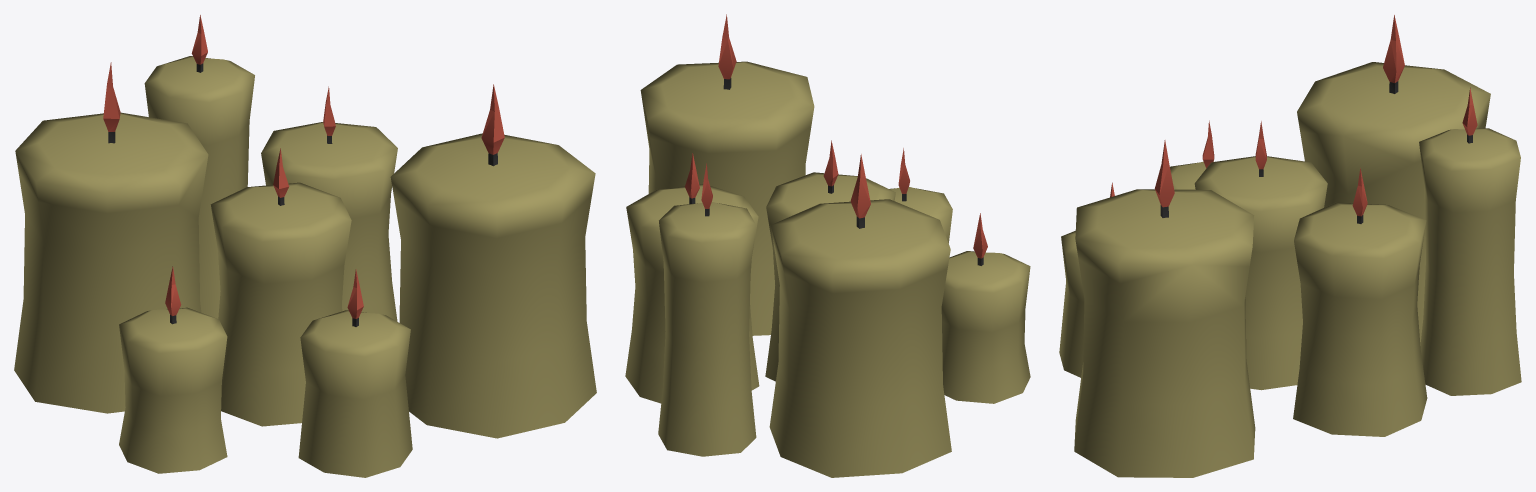
The model's file is candles.glb.
3 views of the same model, side by side, from view 1: azimuth 30°, elevation 25°; view 2: azimuth 150°, elevation 25°; view 3: azimuth 270°, elevation 25° (orthographic). The views are drawn at different scales.
Visible parts, largest first — view 1: candles; view 2: candles; view 3: candles.
Boxes of the visible parts, x1,y1,x2,y2 form: candles: (14, 15, 596, 477); candles: (625, 14, 1030, 477); candles: (1059, 15, 1521, 477).
Bounding box in the file's own units: 0.2 × 0.1377 × 0.1915.
